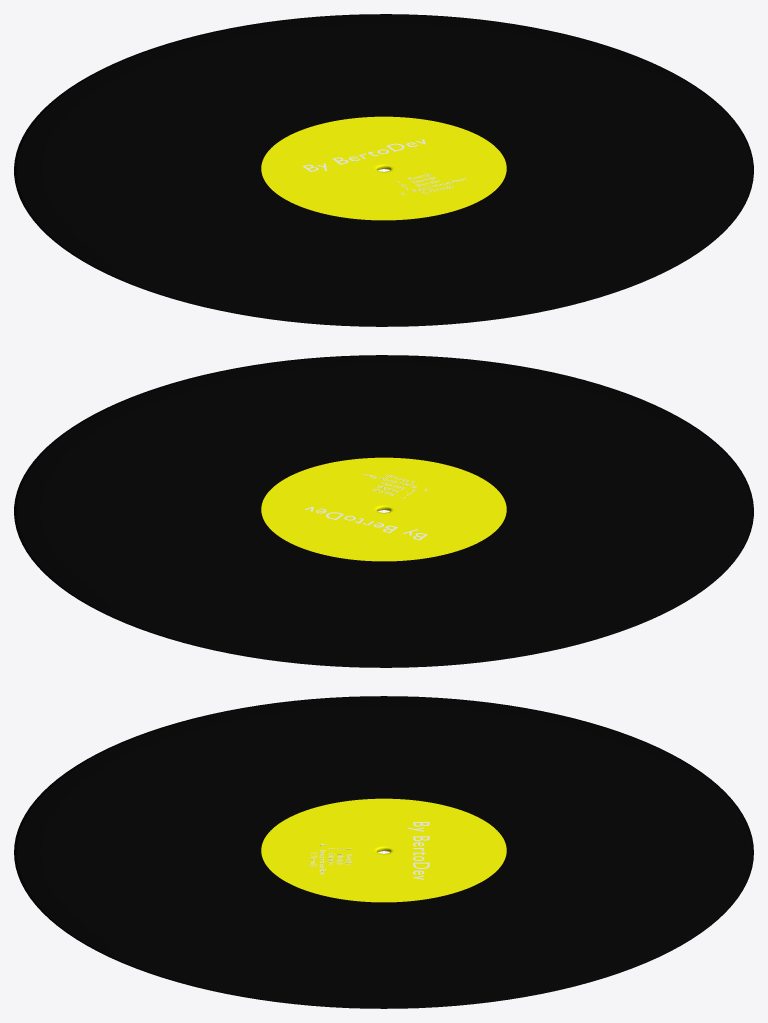
File: tableAndDisk.glb
3 renders of one model, top to bottom at view 1: azimuth 30°, elevation 25°; view 2: azimuth 150°, elevation 25°; view 3: azimuth 270°, elevation 25°, orthographic.
Visible parts, largest first — view 1: Record.002; view 2: Record.002; view 3: Record.002.
Part boxes in pixels (box(x1,y1,x2,y2)): Record.002: box(14, 14, 753, 326); Record.002: box(14, 355, 753, 667); Record.002: box(14, 696, 753, 1008).
Size of what is drawn, in the model's own units: 2.08 by 0.0122 by 2.08.
